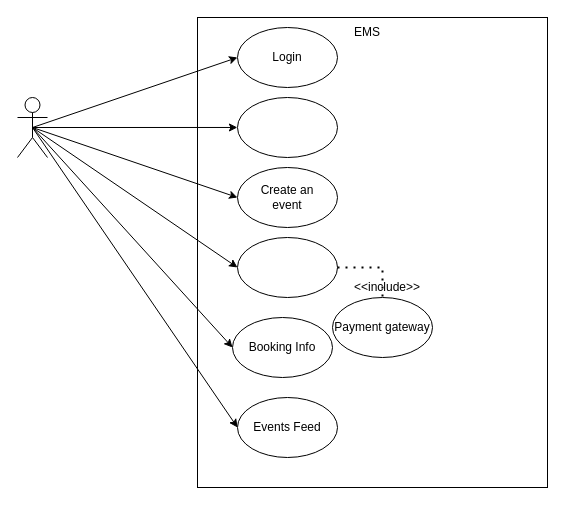
Image size: 565x505. Some labels were removed from this diagram. The shapes that lost their labels are listed below. From the top down, each one's centre as x and y in pixels, then its label:
At pixel 32 127: "Actor".
At pixel 287 127: "Create profile".
At pixel 287 267: "Book an event".
